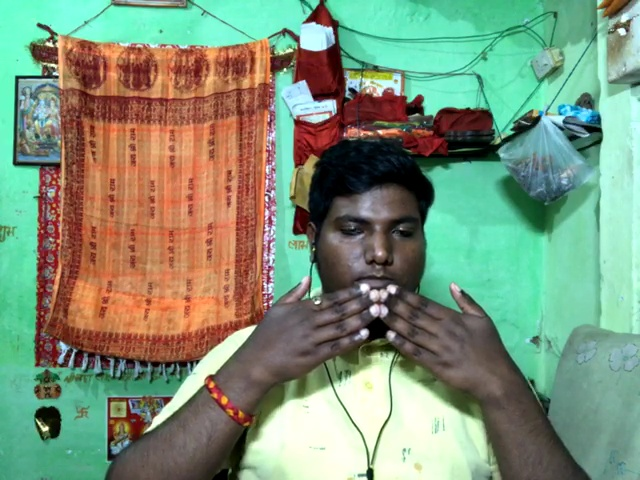Thanks: (205, 258, 543, 419)
